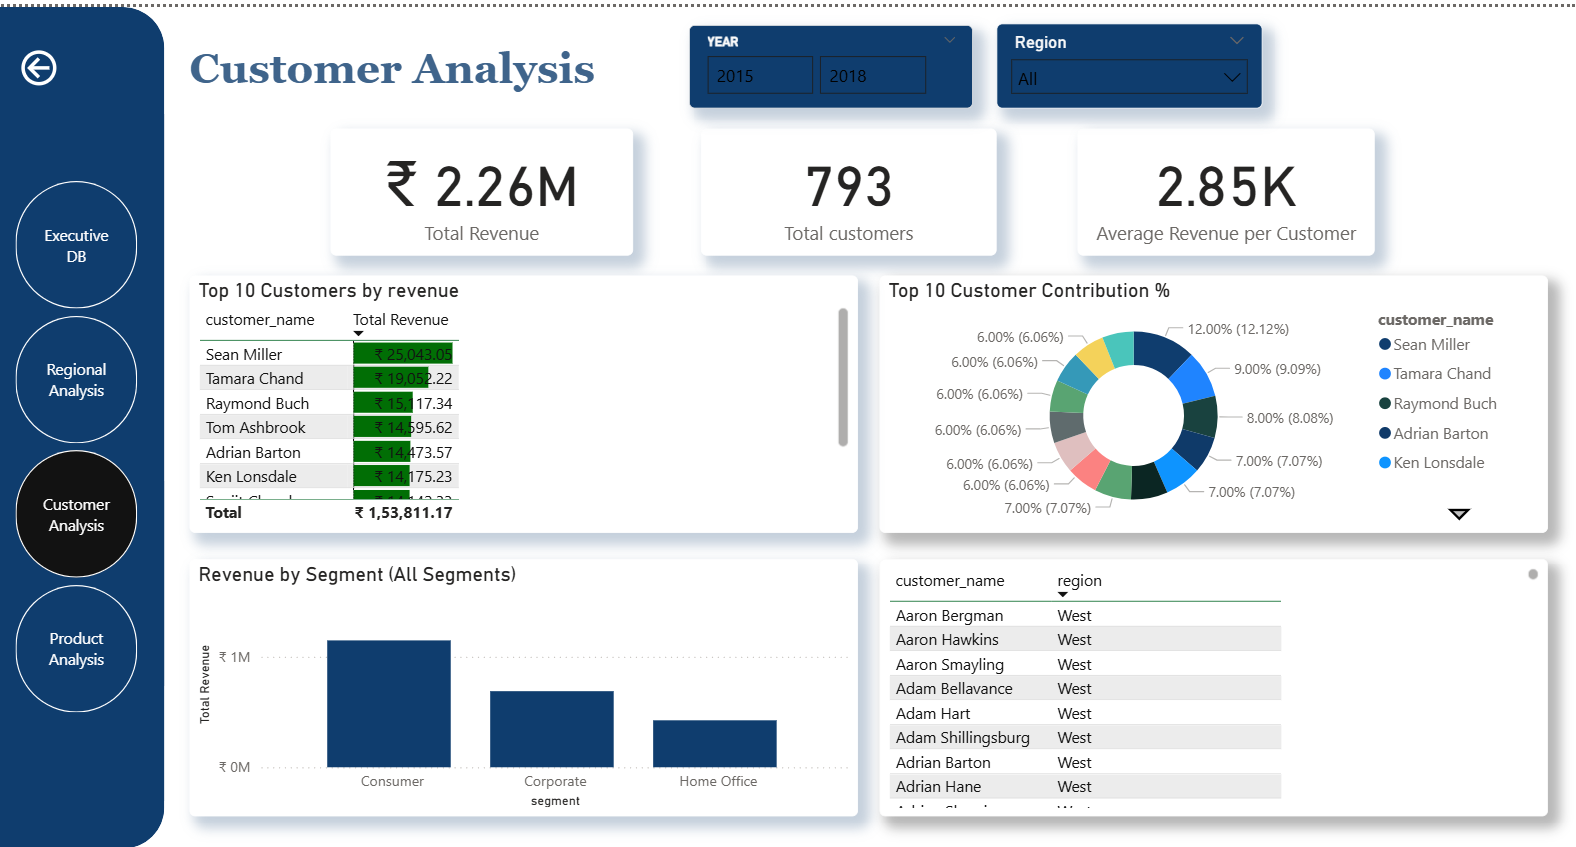

This screenshot's page, from the dashboard's own definition file:
{"tool":"powerbi","page":{"name":"Customer Analysis","canvas":[1350,720],"ordinal":2},"visuals":[{"type":"card","fields":{"Values":["superstore store.Total Revenue"]},"box":[282.9,104.3,258.6,108.6],"z":0},{"type":"card","fields":{"Values":["superstore store.Total customers"]},"box":[600,104.3,252.9,108.6],"z":1000},{"type":"columnChart","fields":{"Category":["superstore store.segment"],"Y":["superstore store.Total Revenue"]},"box":[162.9,471.4,571.4,220],"z":2000},{"type":"shape","box":[162.9,15.7,368.6,72.9],"z":3000},{"type":"card","fields":{"Values":["Measures (2).Average Revenue per Customer"]},"box":[921.4,104.3,254.3,108.6],"z":4000},{"type":"donutChart","title":" Top 10 Customer Contribution %","fields":{"Category":["superstore store.customer_name"],"Y":["Measures (2).Revenue%"]},"box":[752.9,230,571.4,220],"z":5000},{"type":"tableEx","title":"Top 10 Customers by revenue","fields":{"Values":["superstore store.customer_name","superstore store.Total Revenue"]},"box":[162.9,230,571.4,220],"z":6000},{"type":"tableEx","fields":{"Values":["superstore store.customer_name","superstore store.region"]},"box":[752.9,471.4,571.4,220],"z":7000},{"type":"slicer","fields":{"Values":["superstore store.region"]},"box":[852.9,14.3,227.1,72.9],"z":8000},{"type":"slicer","fields":{"Values":["DateTable.Year"]},"box":[590,15.7,242.9,71.4],"z":9000},{"type":"shape","box":[0,0,141.4,678.6],"z":10000},{"type":"shape","box":[0,405.7,141.4,314.3],"z":11000},{"type":"pageNavigator","box":[14.3,148.6,104.3,457.1],"z":12000},{"type":"actionButton","box":[14.3,31.4,100,40],"z":13000}]}

Visuals, with their boxes on the page's 1350x720 design canvas (x1, y1, x2, y2). These are canvas units, not pixel positions in the 1576x847 screenshot, which may show the page scaled, cropped or inside an application window:
card - superstore store.Total Revenue: 283 104 542 213
card - superstore store.Total customers: 600 104 853 213
columnChart - superstore store.segment x superstore store.Total Revenue: 163 471 734 691
shape: 163 16 532 89
card - Measures (2).Average Revenue per Customer: 921 104 1176 213
" Top 10 Customer Contribution %" donutChart: 753 230 1324 450
"Top 10 Customers by revenue" tableEx: 163 230 734 450
tableEx - superstore store.customer_name x superstore store.region: 753 471 1324 691
slicer - superstore store.region: 853 14 1080 87
slicer - DateTable.Year: 590 16 833 87
shape: 0 0 141 679
shape: 0 406 141 720
pageNavigator: 14 149 119 606
actionButton: 14 31 114 71
